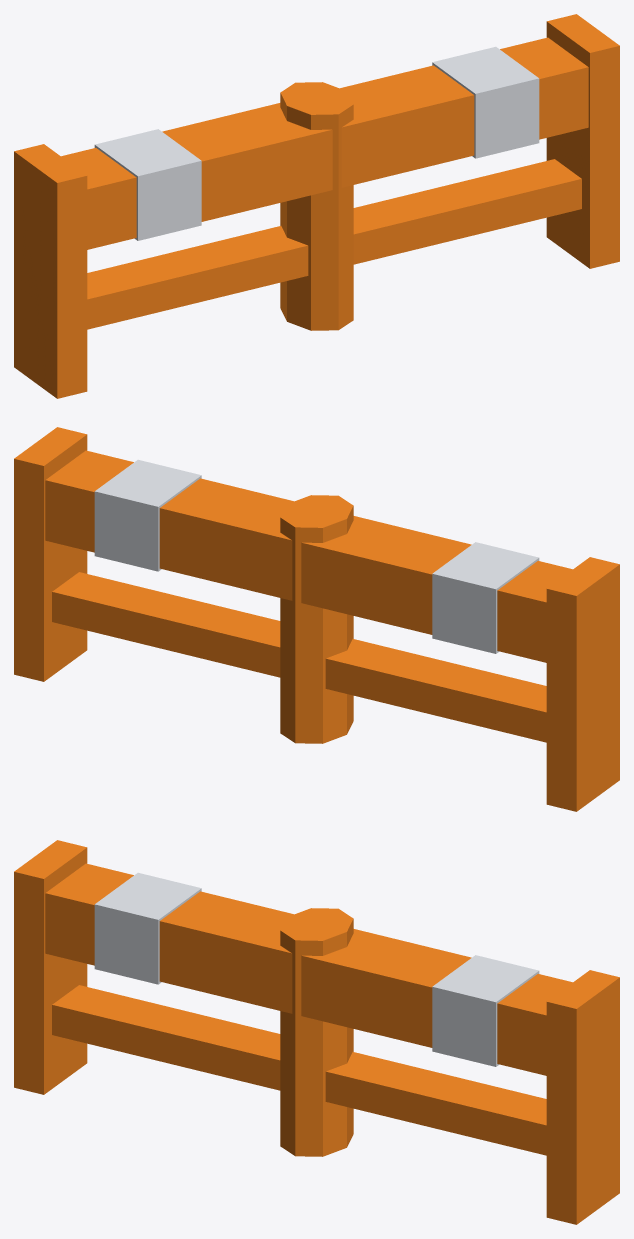
File: env_r9_guard_rail.glb
The picture shows the model from 3 angles, top to bottom: view 1: azimuth 30°, elevation 25°; view 2: azimuth 150°, elevation 25°; view 3: azimuth 330°, elevation 25°; orthographic projection.
Visible parts, largest first — view 1: env_r9_guard_rail; view 2: env_r9_guard_rail; view 3: env_r9_guard_rail.
Boxes of the visible parts, x1=… form: env_r9_guard_rail: x1=14, y1=14, x2=619, y2=398; env_r9_guard_rail: x1=14, y1=427, x2=619, y2=811; env_r9_guard_rail: x1=14, y1=840, x2=619, y2=1224.
Size of the model in its own units: 3 by 1.1 by 0.4.
1 material, 1 textured.
